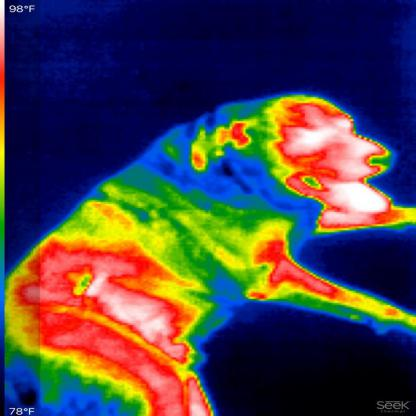dog: (8, 91, 414, 414)
